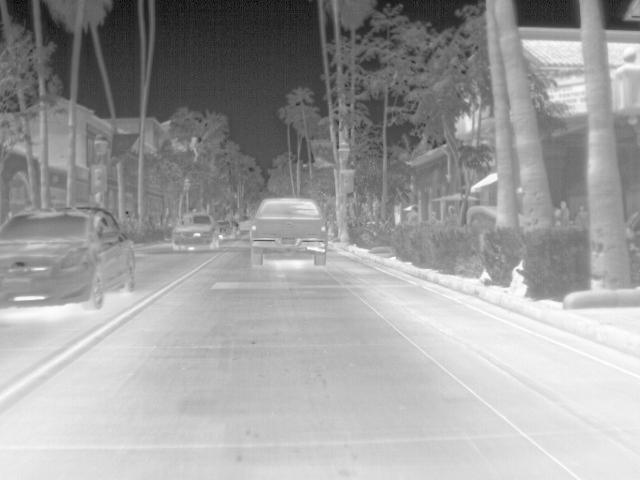car: (0, 206, 138, 310), (248, 197, 332, 264), (170, 213, 221, 252), (216, 218, 238, 241)
person: (555, 200, 571, 225)
